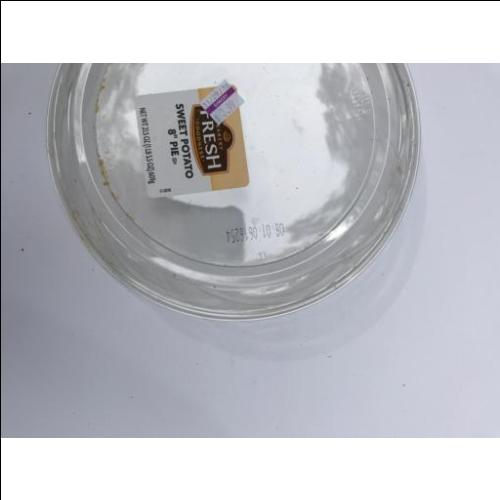plastic: (48, 62, 421, 322)
